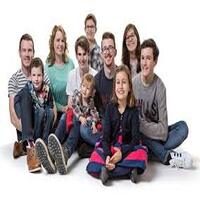person: (136, 36, 162, 83), (111, 64, 140, 106), (13, 24, 39, 69), (48, 25, 74, 63), (97, 28, 121, 64), (75, 32, 95, 75), (76, 9, 101, 41), (28, 50, 46, 93), (124, 20, 142, 59)
